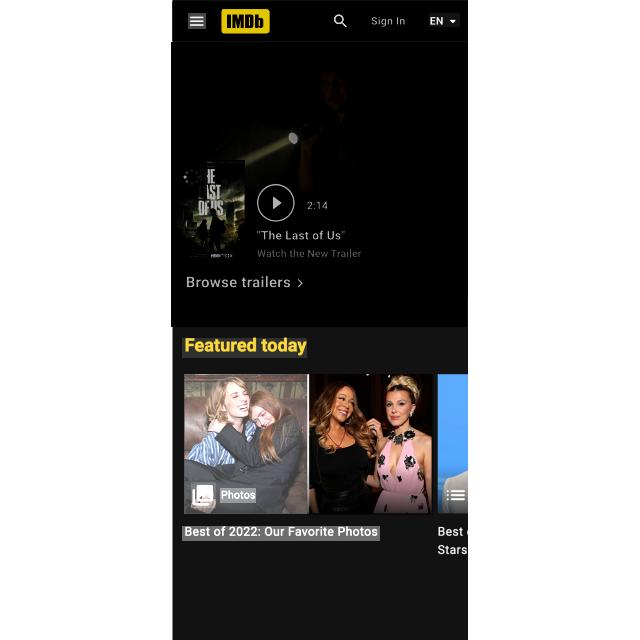CheckBox: (370, 14, 407, 28)
Input field: (182, 526, 380, 541)
alert: (429, 13, 460, 27)
bag: (172, 1, 468, 41)
breadcrumbs: (182, 338, 307, 358)
card: (172, 42, 468, 327)
carousel: (191, 482, 216, 508), (334, 12, 348, 28)
copy: (310, 374, 433, 515), (184, 374, 307, 514)
data feed: (220, 488, 256, 503)
date picker: (222, 8, 270, 34)
decoration: (188, 13, 206, 29)
